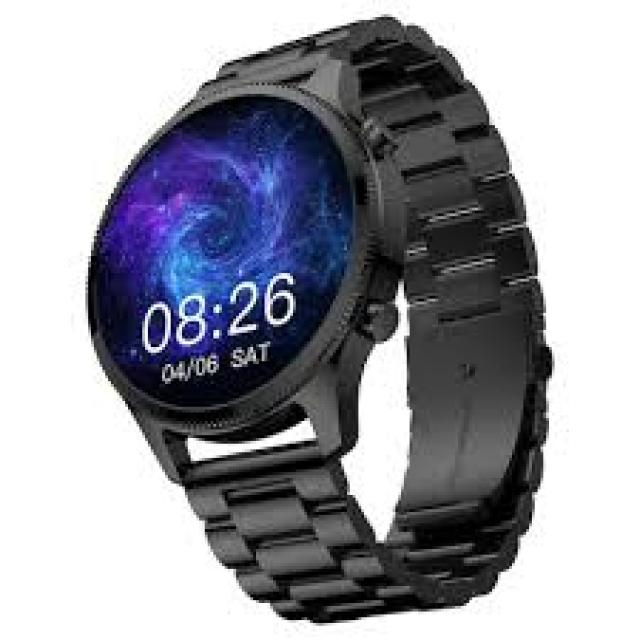objects: (88, 17, 549, 620)
